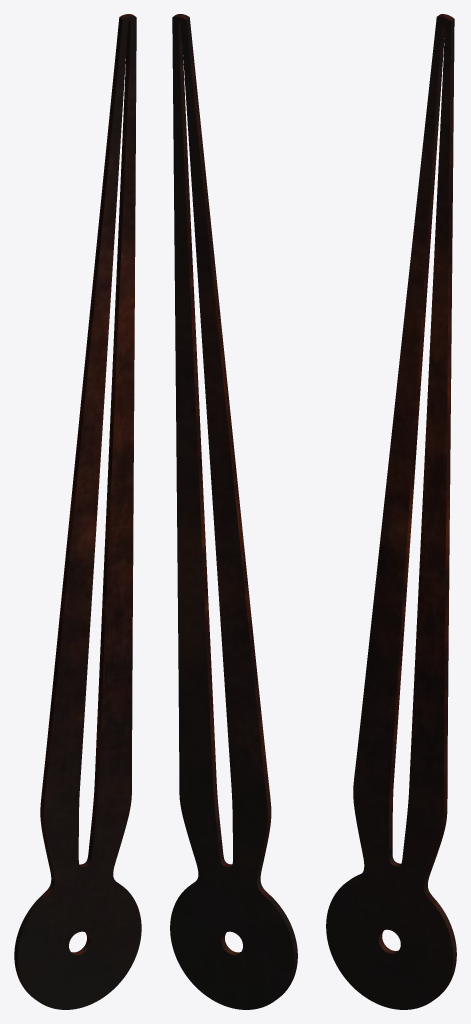
The model's file is GearHora.obj.
The picture shows the model from 3 angles, left to right: view 1: azimuth 30°, elevation 25°; view 2: azimuth 150°, elevation 25°; view 3: azimuth 330°, elevation 25°; orthographic projection. The views are drawn at different scales.
Visible parts, largest first — view 1: hora_RustOscuro; view 2: hora_RustOscuro; view 3: hora_RustOscuro.
Part boxes in pixels (x1=…): hora_RustOscuro: x1=14, y1=14, x2=141, y2=1009; hora_RustOscuro: x1=170, y1=14, x2=297, y2=1009; hora_RustOscuro: x1=326, y1=14, x2=456, y2=1009.
Size of the model in its own units: 0.4293 by 3.24 by 0.0307.
